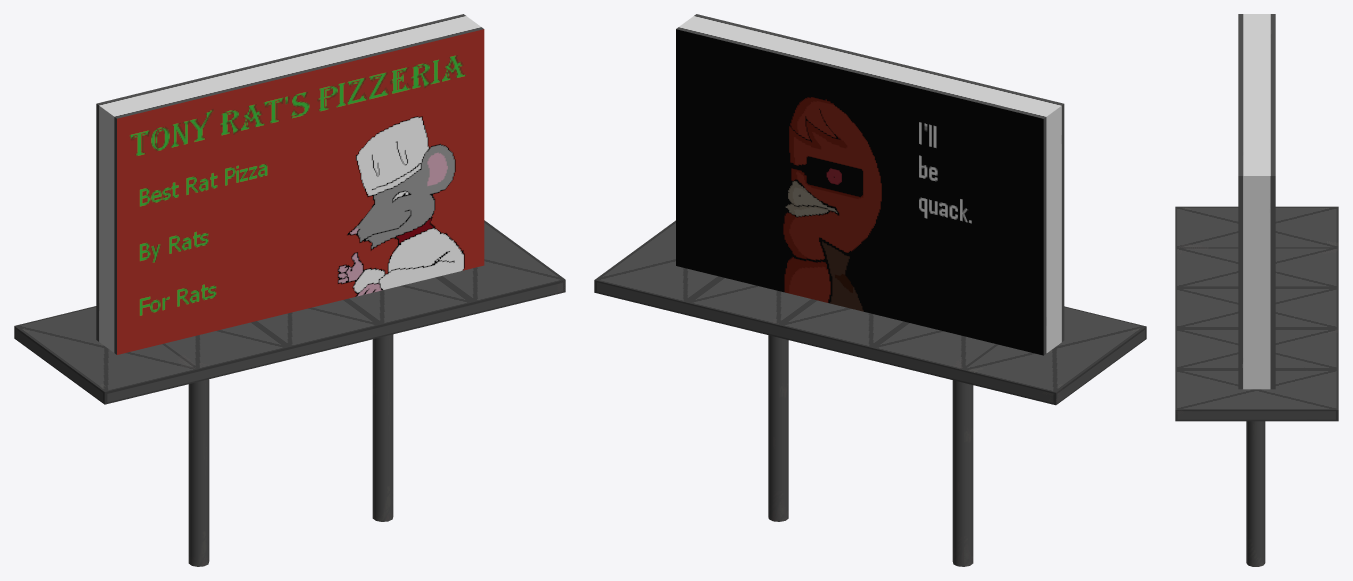
Rendered from billboard.fbx.
3 views of the same model, side by side, from view 1: azimuth 30°, elevation 25°; view 2: azimuth 150°, elevation 25°; view 3: azimuth 270°, elevation 25° (orthographic). The views are drawn at different scales.
Visible parts, largest first — view 1: pCube1, pCube2, pCube5, pCube6; view 2: pCube1, pCube2, pCube5, pCube6; view 3: pCube2, pCube1, pCube6.
Part boxes in pixels (x1,y1,x2,y2): pCube1: (96, 14, 484, 354); pCube2: (14, 220, 565, 404); pCube5: (188, 379, 209, 566); pCube6: (372, 334, 393, 521); pCube1: (676, 14, 1064, 355); pCube2: (594, 220, 1146, 405); pCube5: (952, 380, 973, 566); pCube6: (768, 335, 788, 521); pCube2: (1175, 206, 1338, 421); pCube1: (1238, 14, 1275, 389); pCube6: (1246, 421, 1265, 566).
Size of the model in its own units: 10.01 by 9.82 by 3.41.
Materials: 3 (3 with a texture image).
